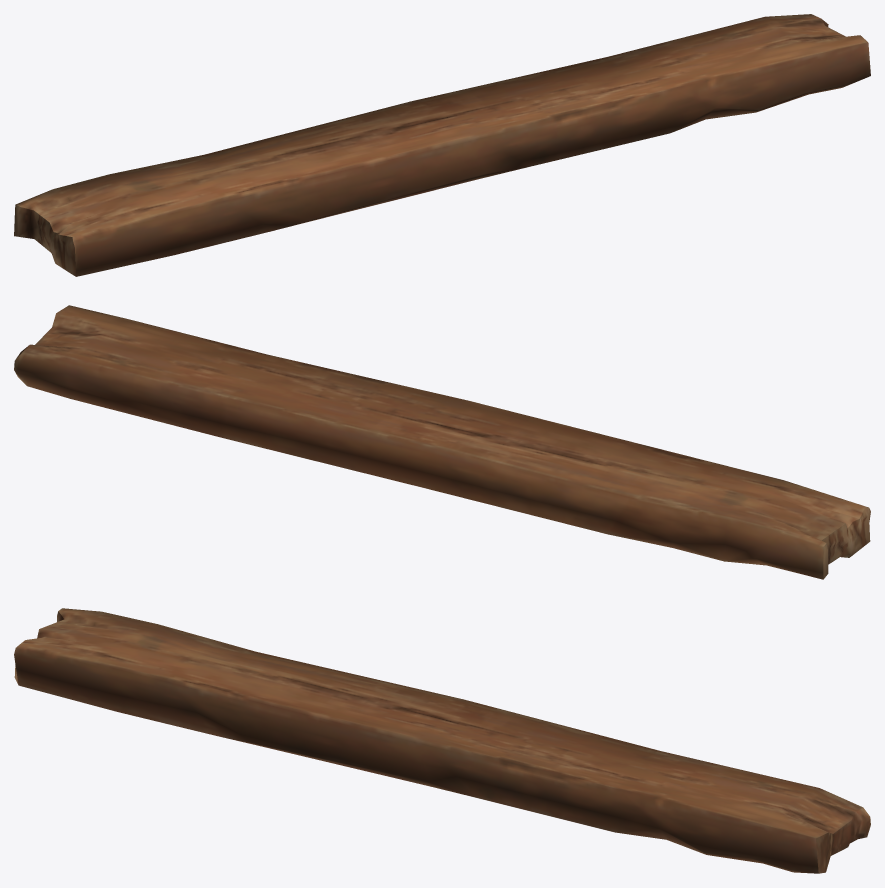
File: SM_Farm_Plank_02.fbx
3 views of the same model, one above another, from view 1: azimuth 30°, elevation 25°; view 2: azimuth 150°, elevation 25°; view 3: azimuth 330°, elevation 25° (orthographic).
Visible parts, largest first — view 1: SM_Farm_Plank_02_LOD0; view 2: SM_Farm_Plank_02_LOD0; view 3: SM_Farm_Plank_02_LOD0.
Part boxes in pixels (x1=…): SM_Farm_Plank_02_LOD0: x1=14, y1=14, x2=870, y2=276; SM_Farm_Plank_02_LOD0: x1=14, y1=305, x2=870, y2=579; SM_Farm_Plank_02_LOD0: x1=14, y1=608, x2=870, y2=873.
Bounding box in the file's own units: 215 × 12.05 × 25.86.
